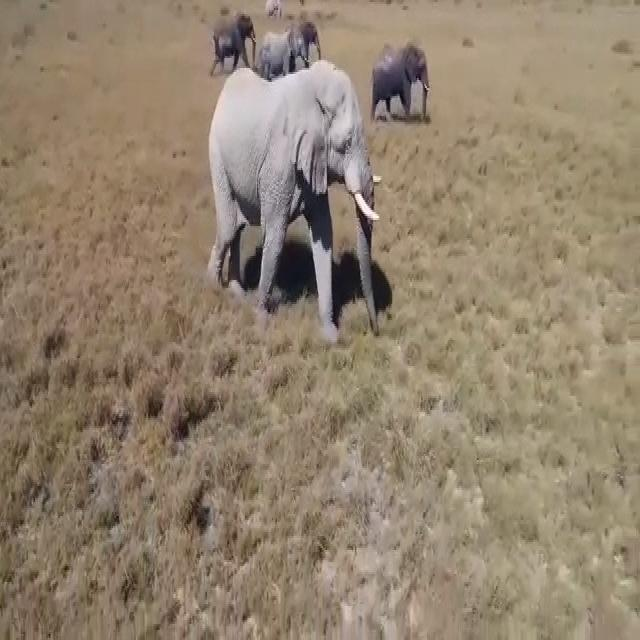Elephant: (207, 63, 385, 332), (369, 40, 436, 134), (258, 25, 322, 79), (212, 9, 255, 67), (262, 2, 286, 22)
